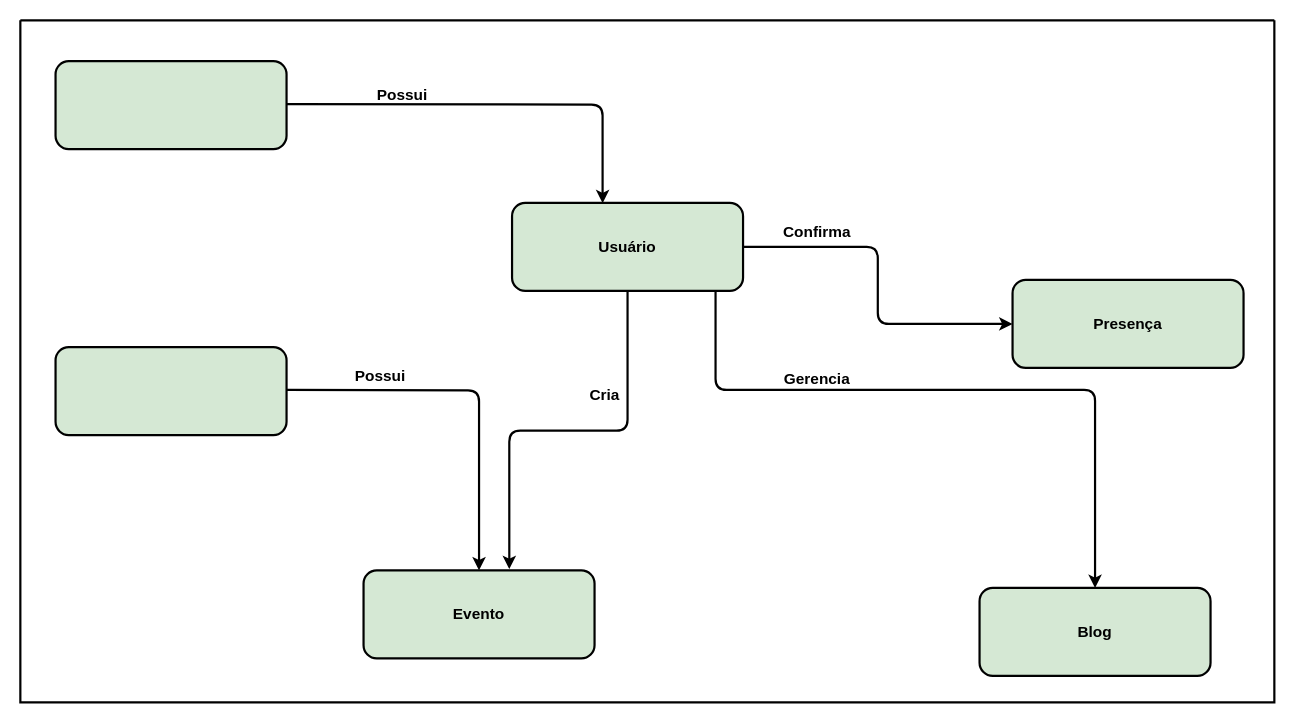
Some shapes in this 1294 by 722 pixel diagram are drawn without their labels. The shapes that lost their labels are listed below. From the top down, each one's centre as x and y in pixels, then its label:
At [170,104]: "Perfil".
At [170,390]: "Tipo de Evento".
